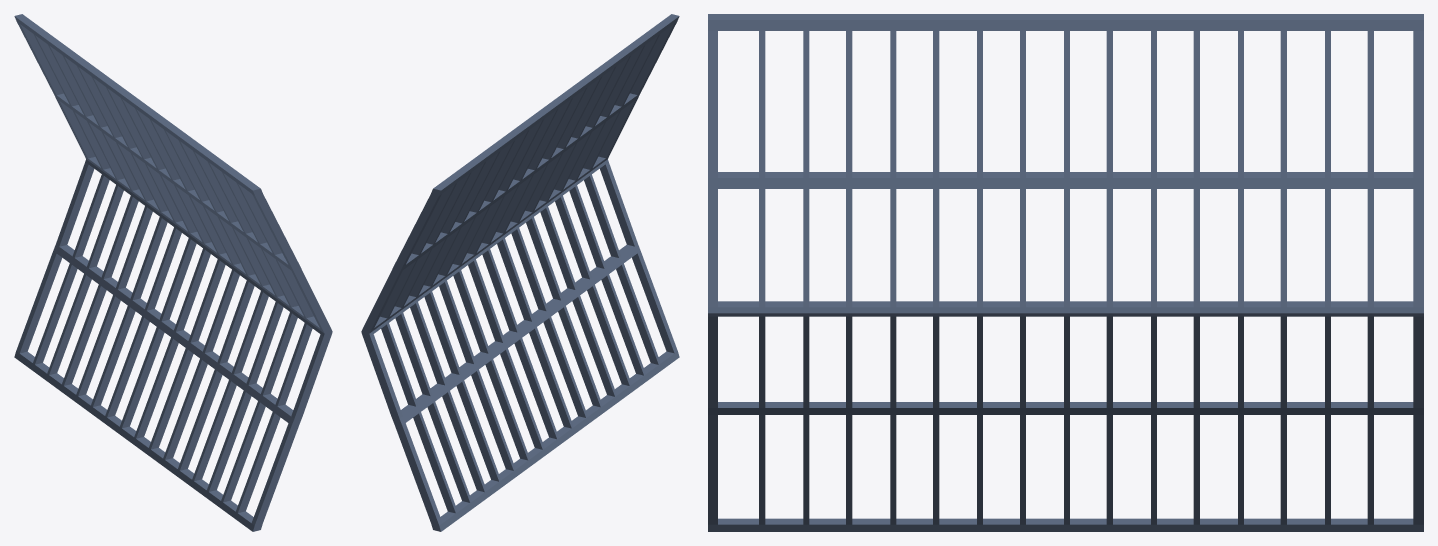
Rendered from -Patio_Roof-.001.fbx.
The picture shows the model from 3 angles, left to right: view 1: azimuth 30°, elevation 25°; view 2: azimuth 150°, elevation 25°; view 3: azimuth 270°, elevation 25°; orthographic projection. The views are drawn at different scales.
Visible parts, largest first — view 1: -Patio_Roof-.001; view 2: -Patio_Roof-.001; view 3: -Patio_Roof-.001.
Part boxes in pixels (box(x1,y1,x2,y2)): -Patio_Roof-.001: box(14, 14, 332, 531); -Patio_Roof-.001: box(361, 14, 679, 531); -Patio_Roof-.001: box(708, 14, 1423, 531).
Size of the model in its own units: 98.82 by 404 by 511.
